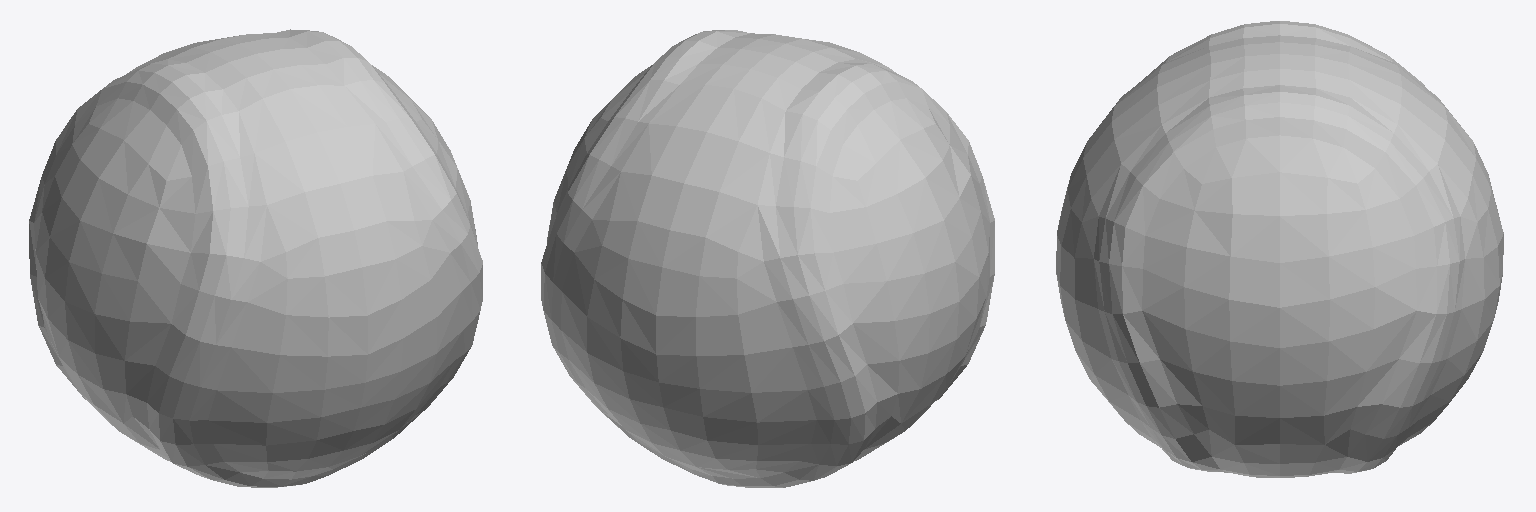
The model's file is baseball.obj.
3 renders of one model, left to right at view 1: azimuth 30°, elevation 25°; view 2: azimuth 150°, elevation 25°; view 3: azimuth 270°, elevation 25°, orthographic.
Visible parts, largest first — view 1: baseball_uploads_files_732020_baseball_ball_01; view 2: baseball_uploads_files_732020_baseball_ball_01; view 3: baseball_uploads_files_732020_baseball_ball_01.
Boxes of the visible parts, x1=… form: baseball_uploads_files_732020_baseball_ball_01: x1=29, y1=29, x2=482, y2=487; baseball_uploads_files_732020_baseball_ball_01: x1=541, y1=30, x2=994, y2=487; baseball_uploads_files_732020_baseball_ball_01: x1=1056, y1=21, x2=1503, y2=477.
Bounding box in the file's own units: 0.9921 × 1 × 1.01.